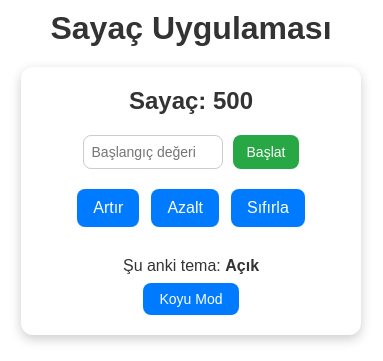
kullanıcı başlangıç değerini belirleyebilir
Type "42" into the number field with placeholder "Başlangıç değeri girin...".
click(152, 152); type("42")  # box x1=82 y1=135 x2=222 y2=169
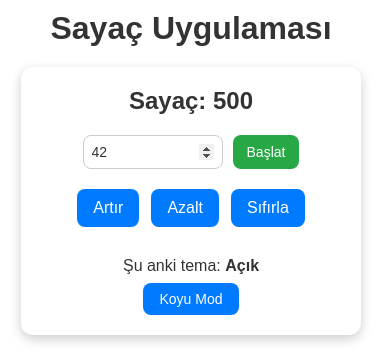
Click the button "Başlat".
click(266, 152)  # box x1=232 y1=135 x2=299 y2=169
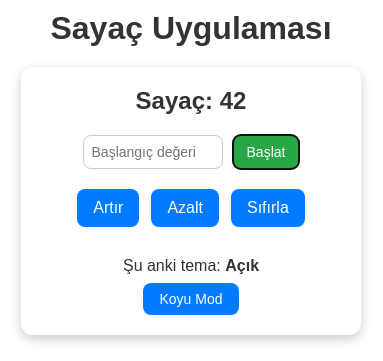
Check: the heading "Sayaç: 42" is shown, box x1=136 y1=87 x2=246 y2=115
